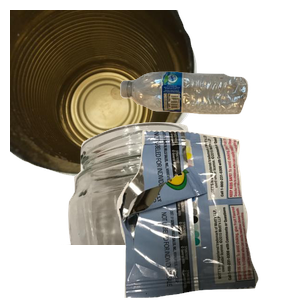glass: (61, 120, 287, 300)
metal: (10, 10, 200, 180)
plastic: (118, 69, 300, 176)
trash: (114, 130, 300, 300)
